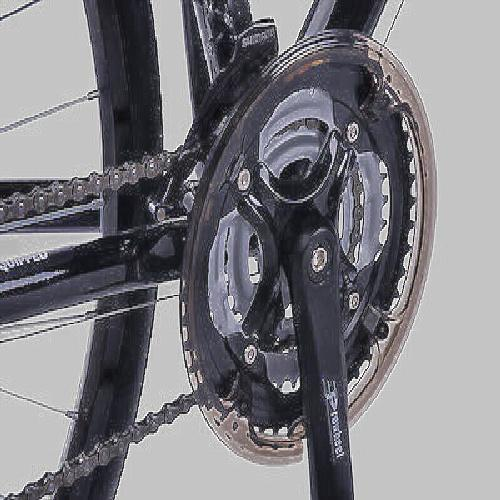bicycle: (94, 62, 447, 451)
